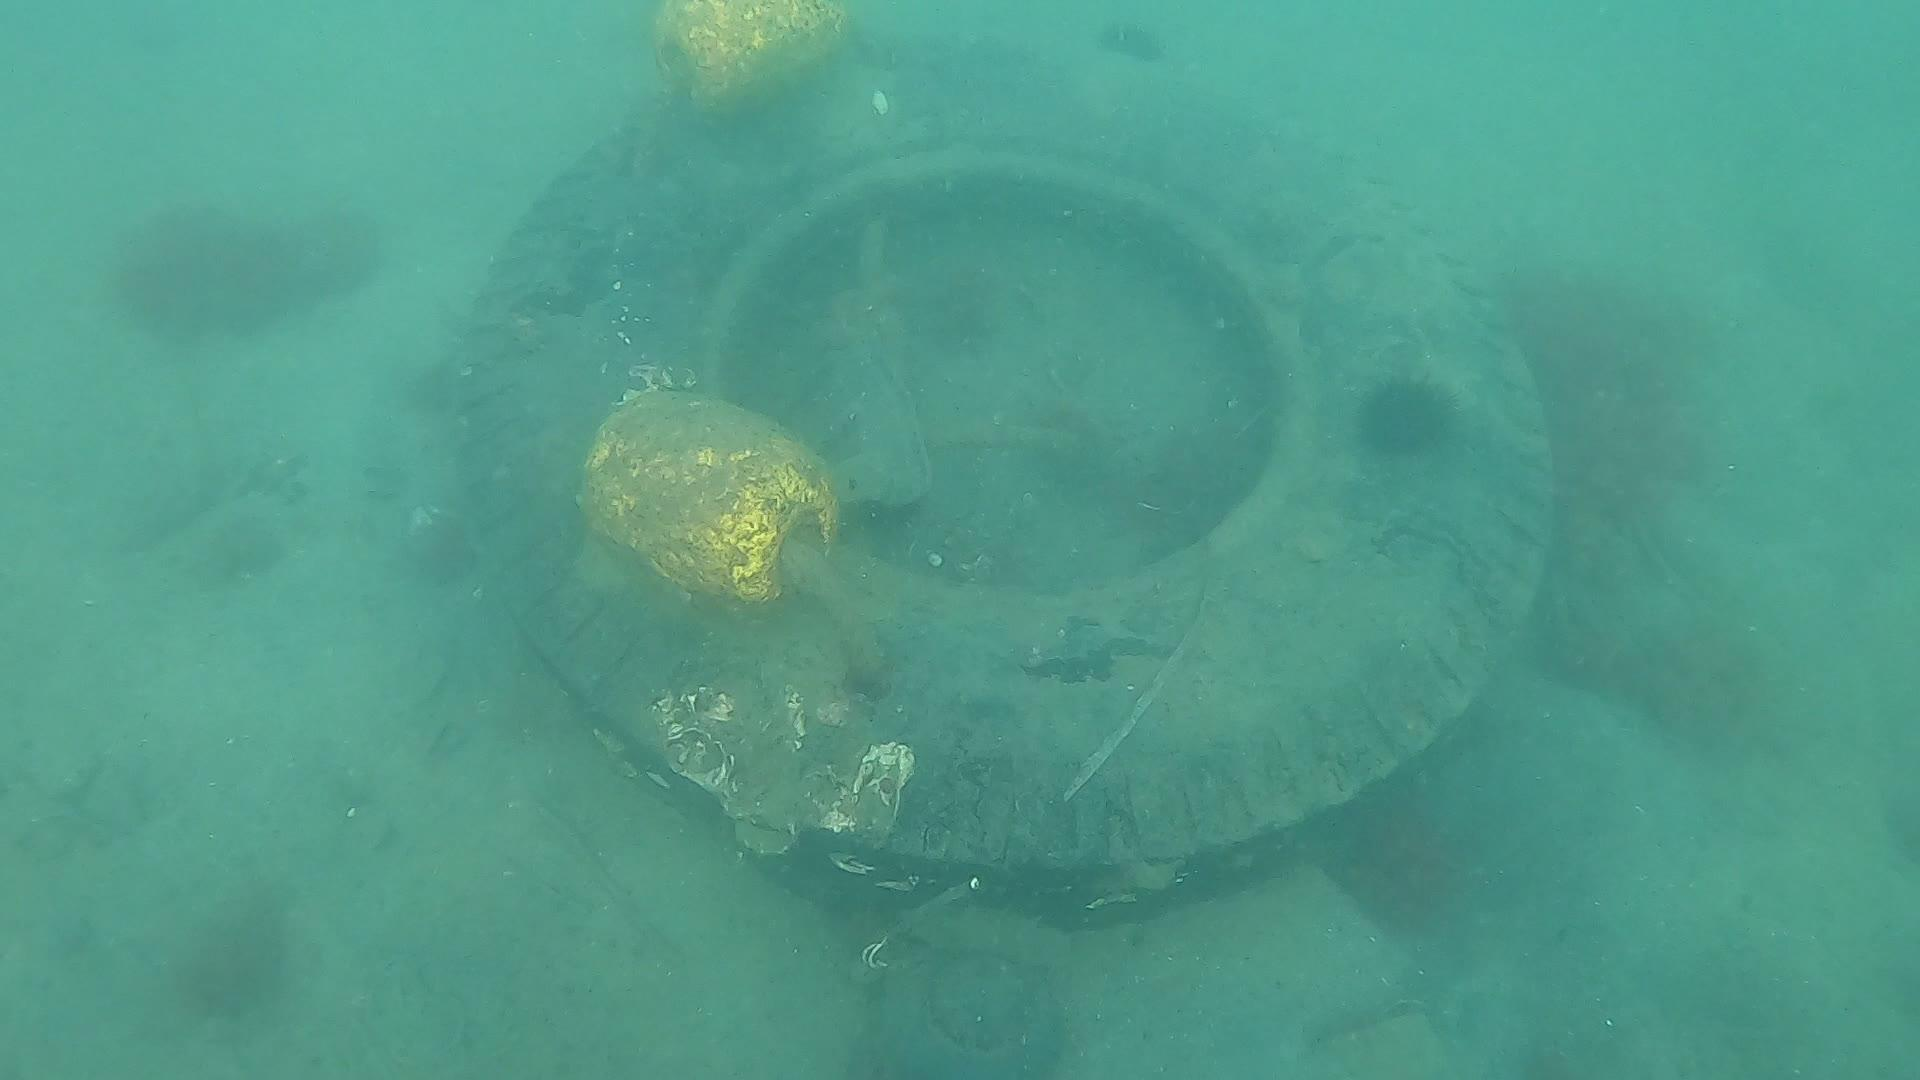tire: (447, 28, 1549, 930)
